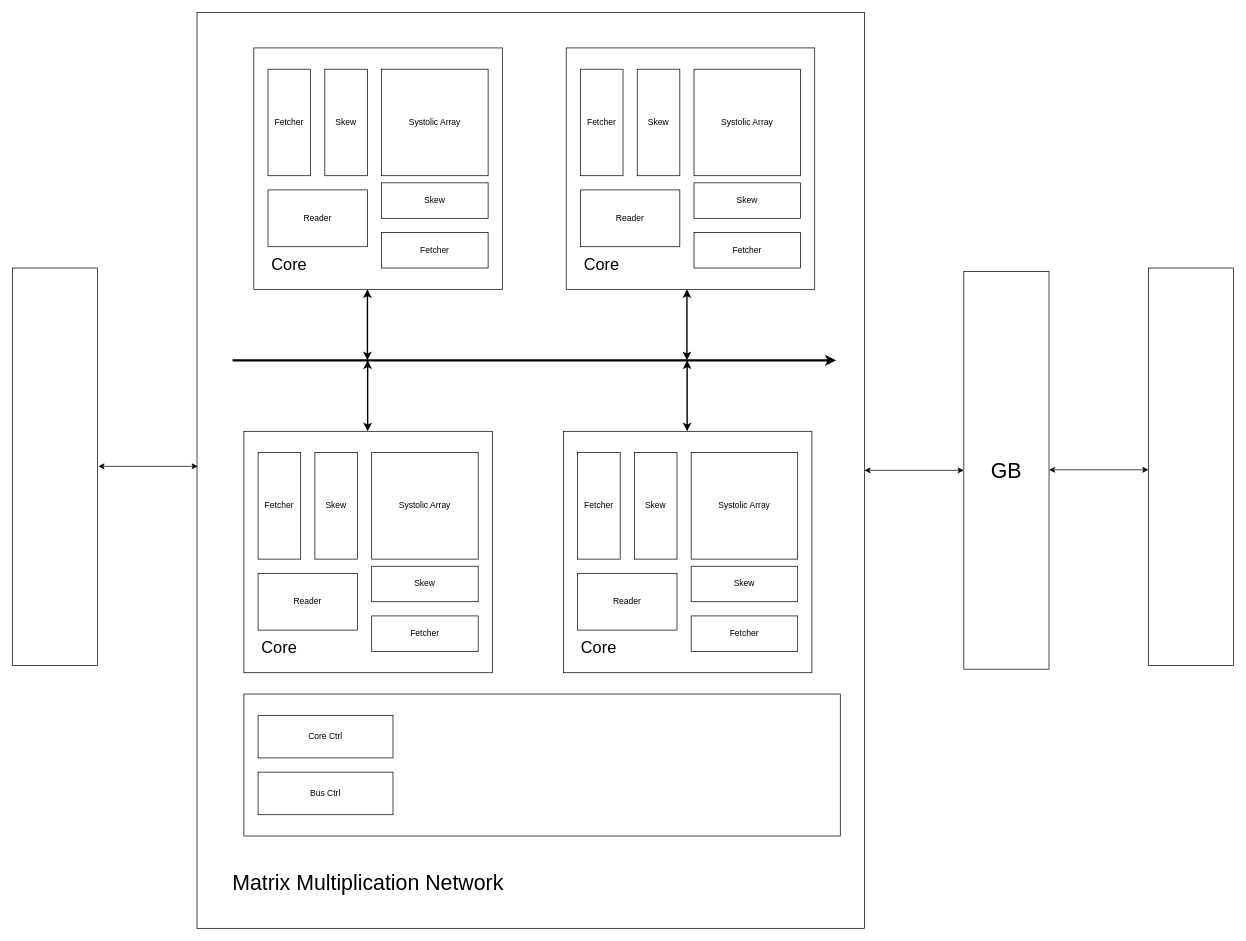
The diagram is 1246 pixels wide and 941 high, and some of its shapes have lost their labels. Each missing label, with the centre of its shape:
IB: the point at 55,466
SIMD: the point at 1191,466
